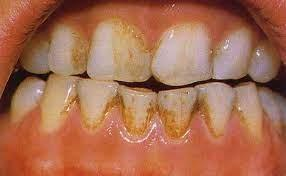Calculus: (89, 23, 153, 84), (158, 86, 200, 140), (78, 78, 117, 131), (199, 83, 235, 140), (42, 75, 78, 129), (233, 83, 269, 137), (122, 88, 160, 139), (54, 26, 89, 75)
